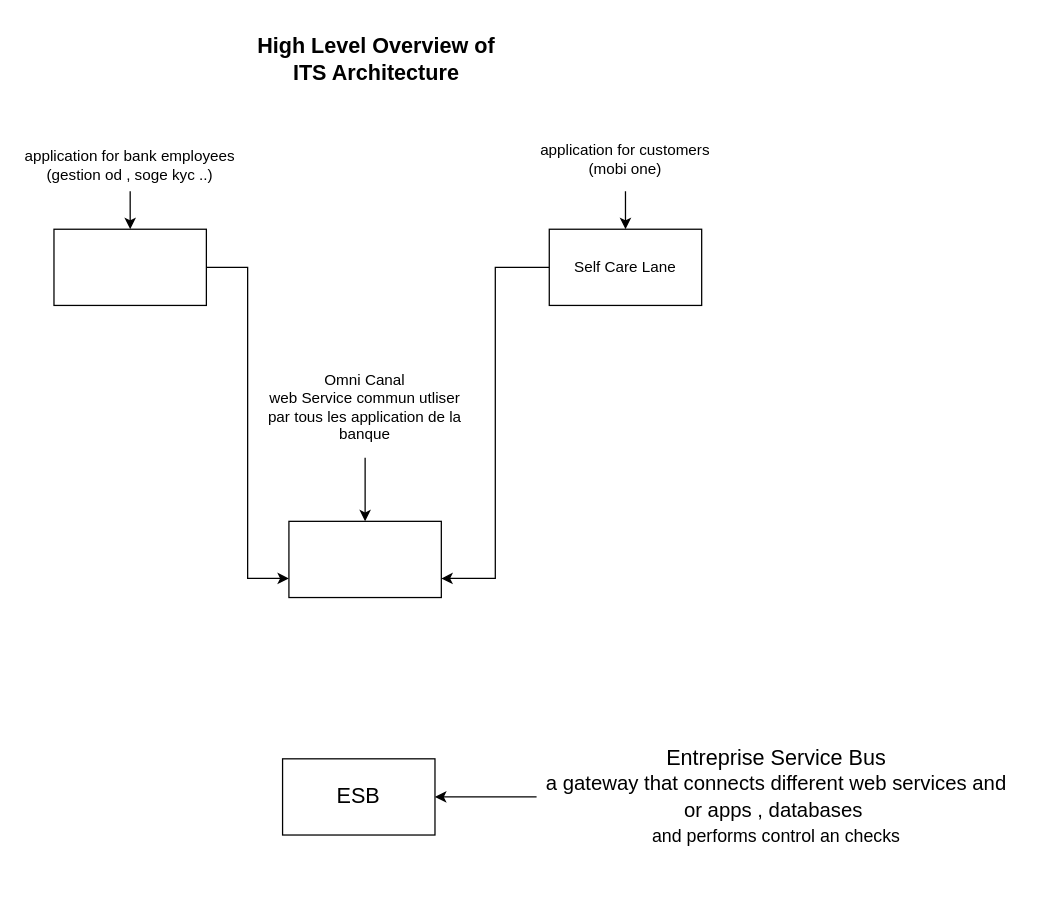
Image size: 1038x900. Some labels were removed from this diagram. The shapes that lost their labels are listed below. From the top down, each one's centre as x and y in pixels, then its label:
pixel 129 266: Customer Care Lane
pixel 364 559: keyclock, camunda, email service ...
